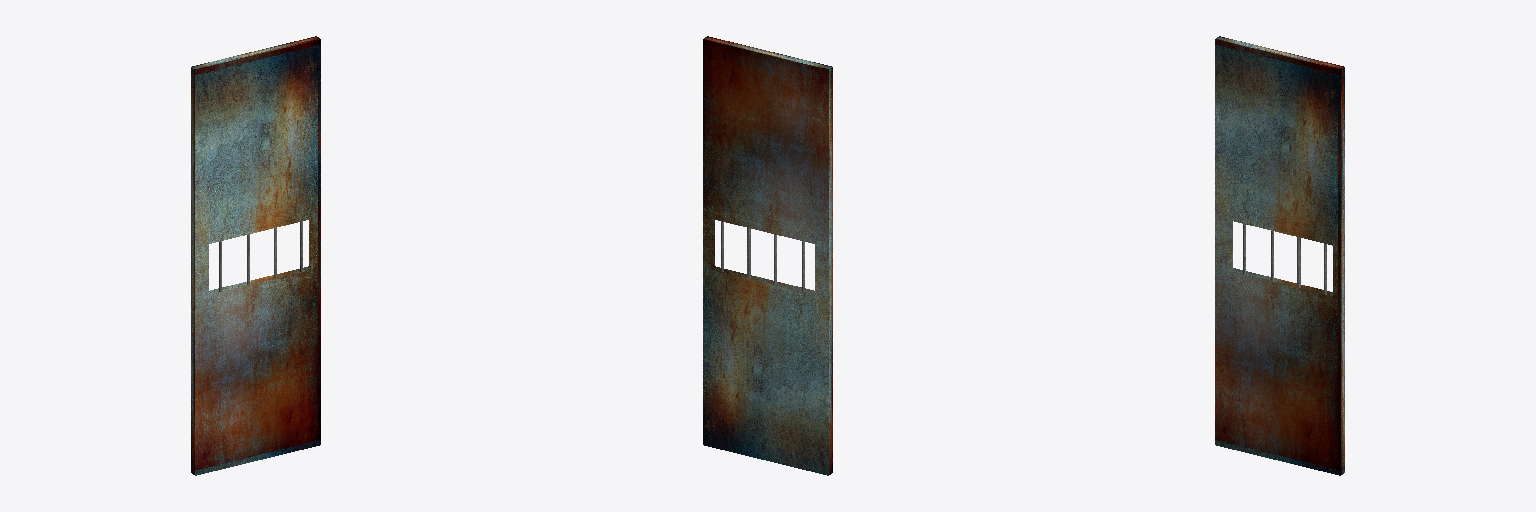
3 renders of one model, left to right at view 1: azimuth 30°, elevation 25°; view 2: azimuth 150°, elevation 25°; view 3: azimuth 330°, elevation 25°, orthographic.
Parts seen in each view (by area): view 1: Door_Cube, Cylinder.002_Cylinder.003; view 2: Door_Cube, Cylinder.002_Cylinder.003; view 3: Door_Cube, Cylinder.002_Cylinder.003.
Part boxes in pixels (x1,y1,x2,y2): Door_Cube: (191, 36, 320, 475); Cylinder.002_Cylinder.003: (219, 221, 302, 291); Door_Cube: (703, 36, 832, 475); Cylinder.002_Cylinder.003: (721, 221, 804, 291); Door_Cube: (1215, 36, 1344, 475); Cylinder.002_Cylinder.003: (1243, 224, 1326, 294).
Size of the model in its own units: 0.4817 by 1.49 by 0.0285.
2 materials, 2 textured.